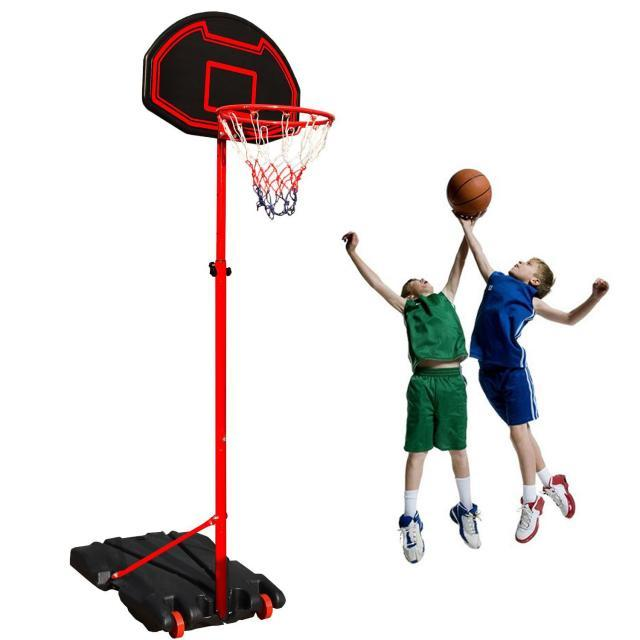Basketball: (448, 168, 492, 216)
hoop: (218, 105, 336, 219)
